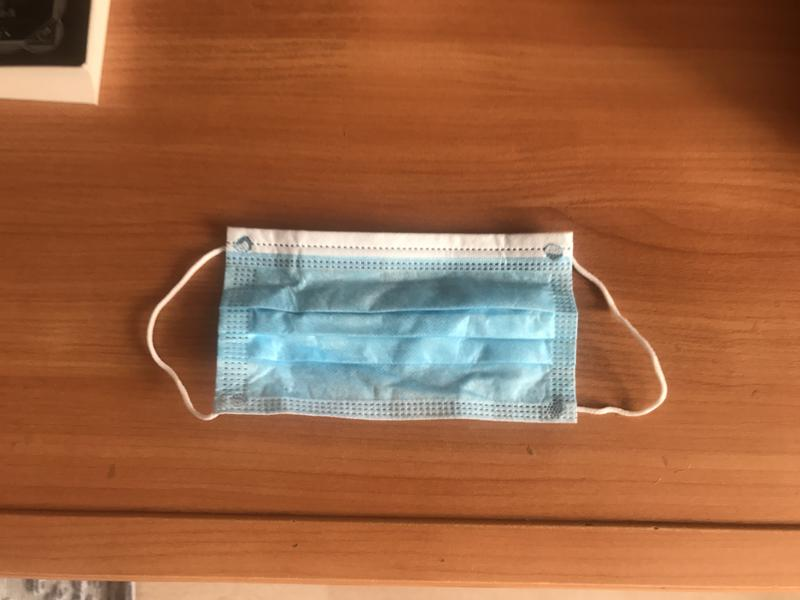medical_mask: (145, 224, 669, 434)
